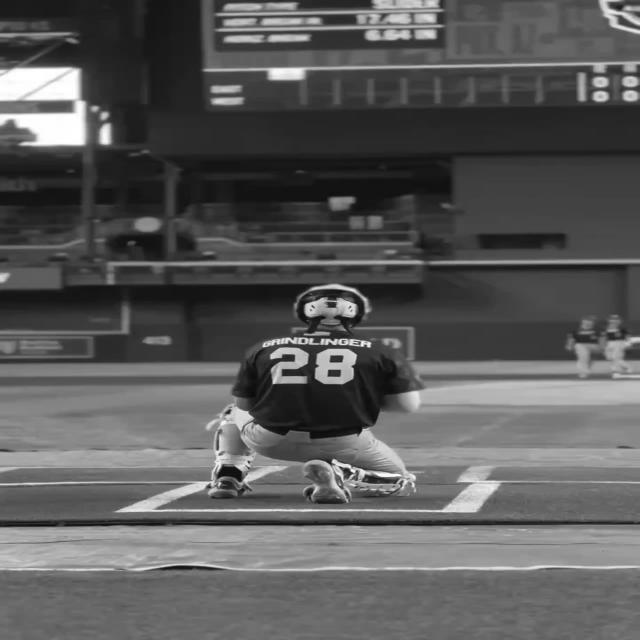shoe: (302, 458, 352, 504), (207, 463, 250, 498)
